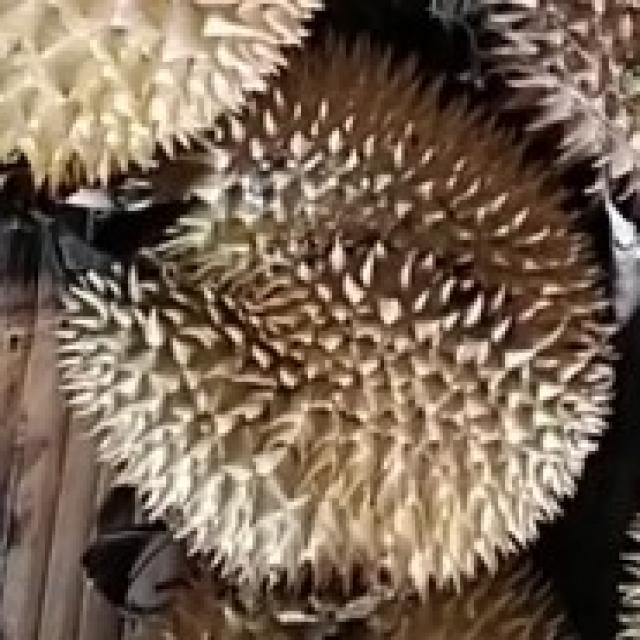mature: (39, 25, 619, 589)
